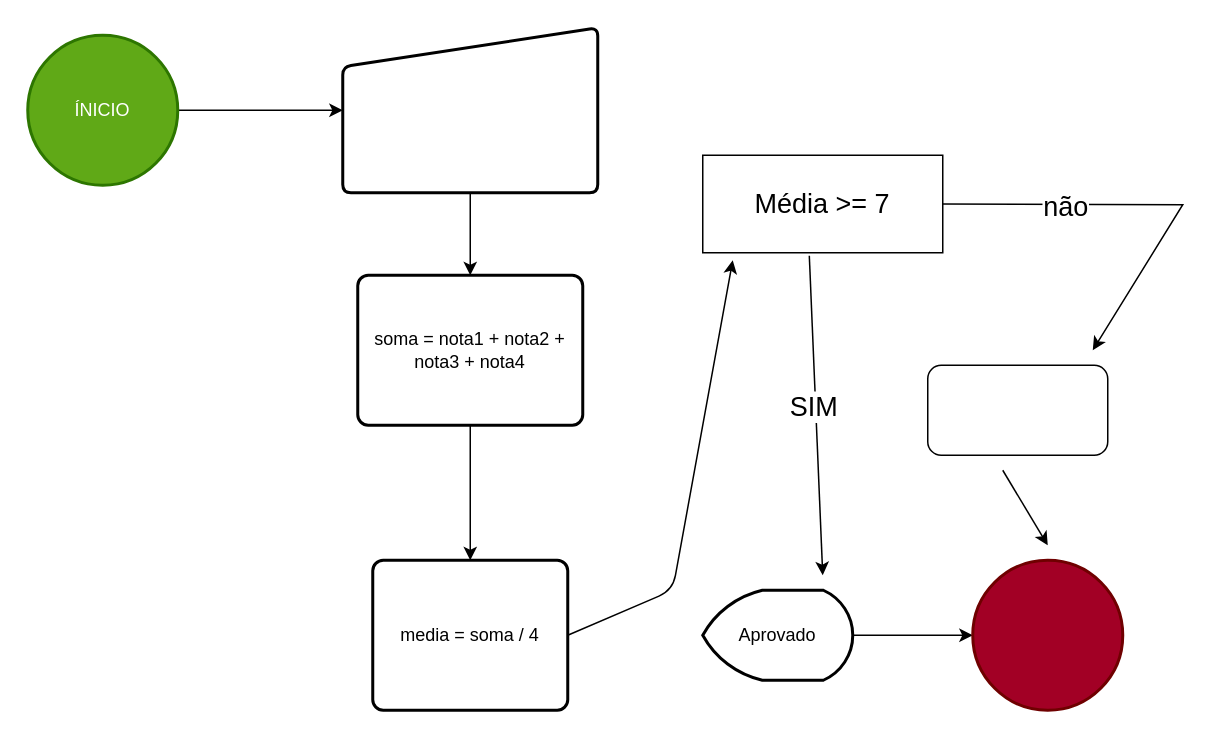
Image size: 1221x737. Some labels were removed from this diagram. Here are the shapes that lost their labels. From the top down, the centre of each, then its label:
point (469, 110): nota1 = X nota2 = X nota3 = X nota4 = X
point (1017, 409): Reprovado
point (1047, 634): FIM
